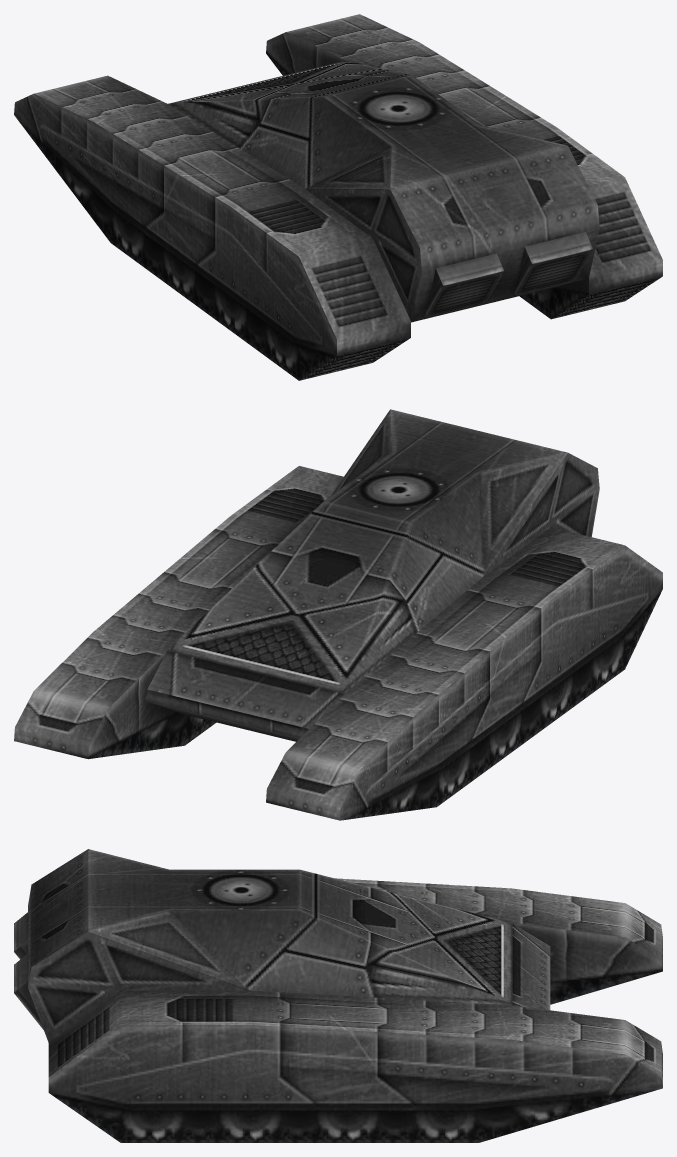
Rendered from dictator.glb.
3 views of the same model, one above another, from view 1: azimuth 30°, elevation 25°; view 2: azimuth 150°, elevation 25°; view 3: azimuth 270°, elevation 25° (orthographic). The views are drawn at different scales.
Parts seen in each view (by area): view 1: hull; view 2: hull; view 3: hull.
Boxes of the visible parts, x1=… form: hull: x1=14, y1=14, x2=662, y2=380; hull: x1=14, y1=409, x2=662, y2=820; hull: x1=14, y1=849, x2=662, y2=1142.
Bounding box in the file's own units: 363 × 198 × 658.
1 material, 1 textured.
